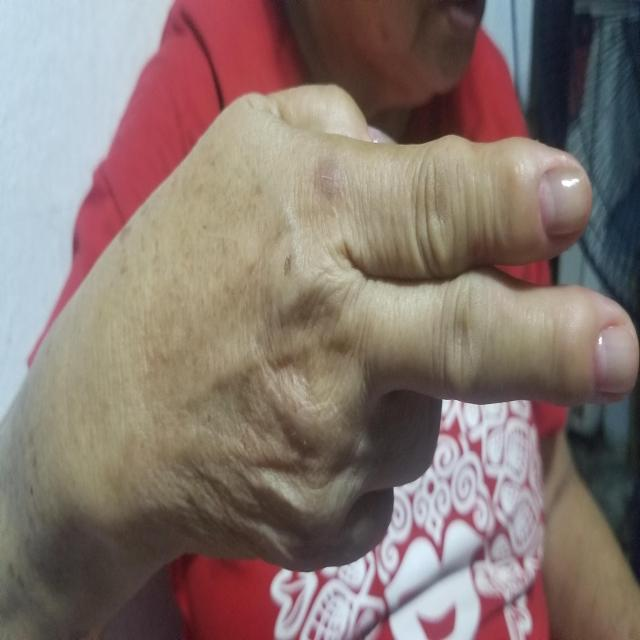H: (181, 79, 640, 577)
